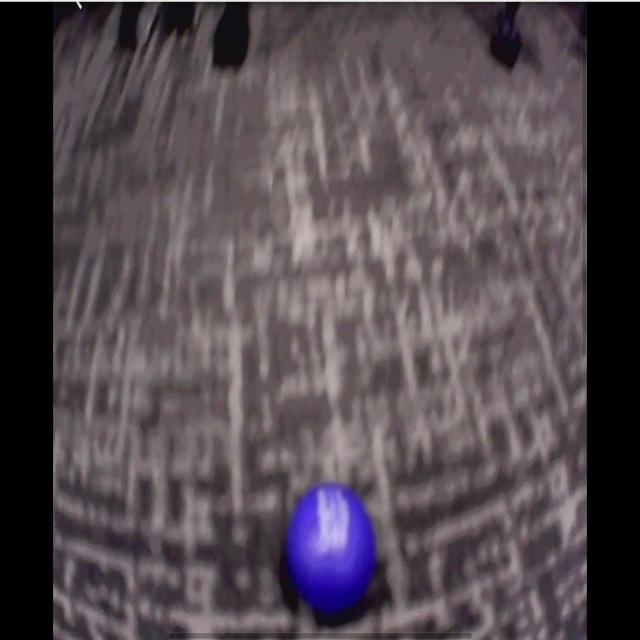ball: (289, 486, 373, 617)
